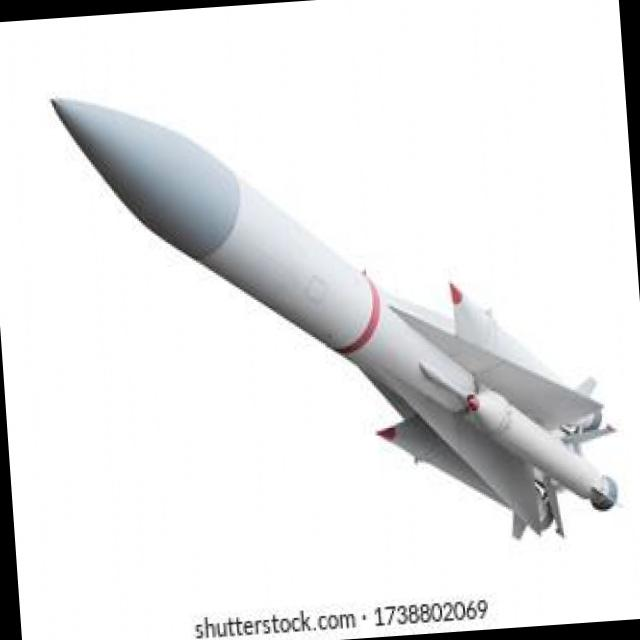rocket: (40, 44, 626, 589)
